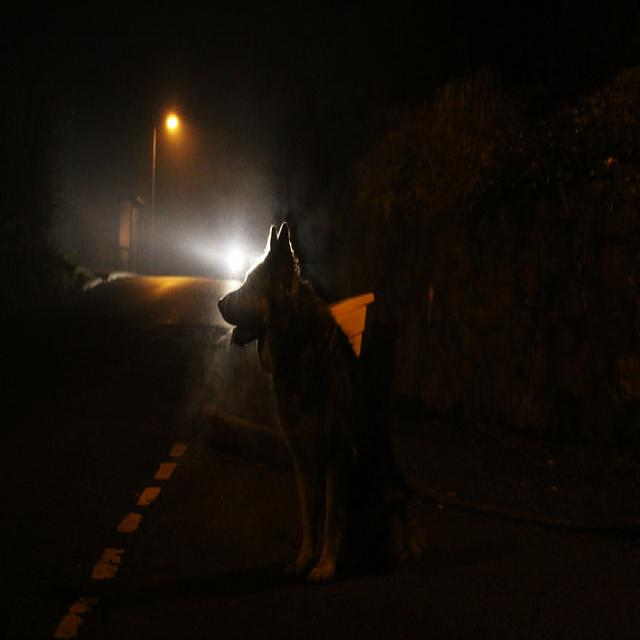Dog: (208, 226, 437, 592)
